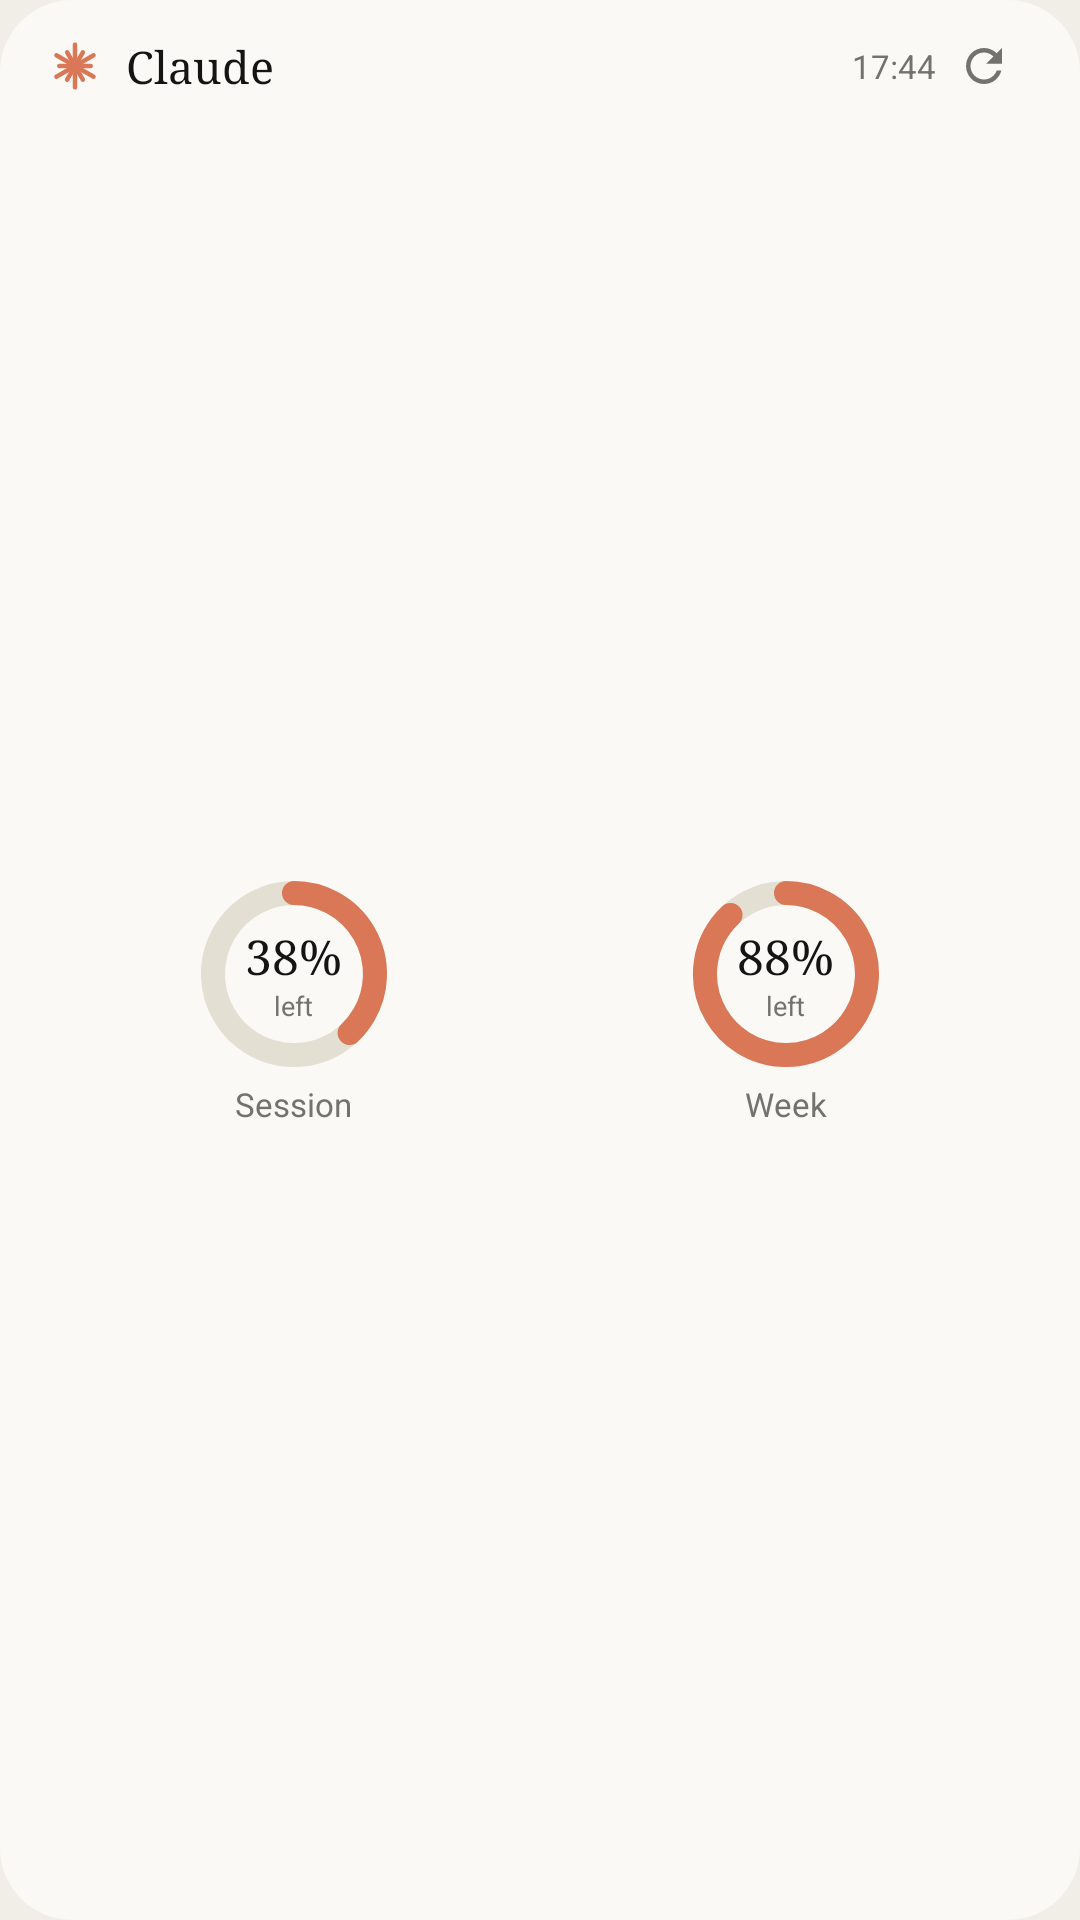

Screen size 1080px×1920px. Icon name, then its center in pixels as [x,y]:
Refresh: [984,66]
ring: [294,974], [786,974]
